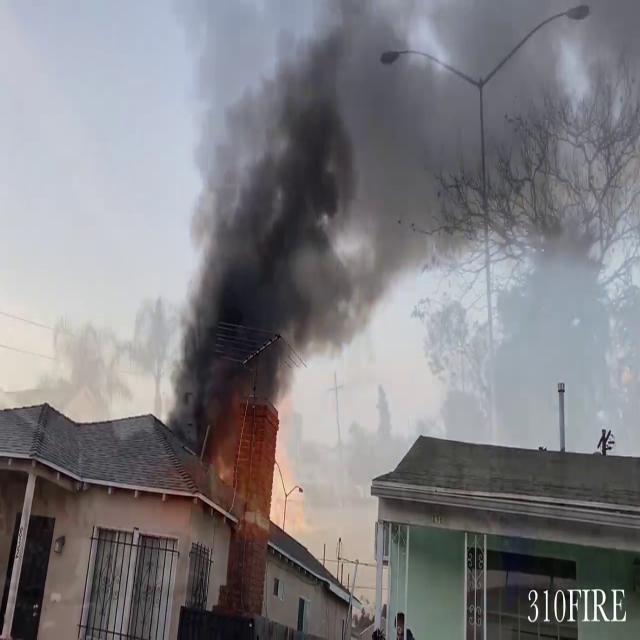Smoke: (168, 1, 638, 457)
